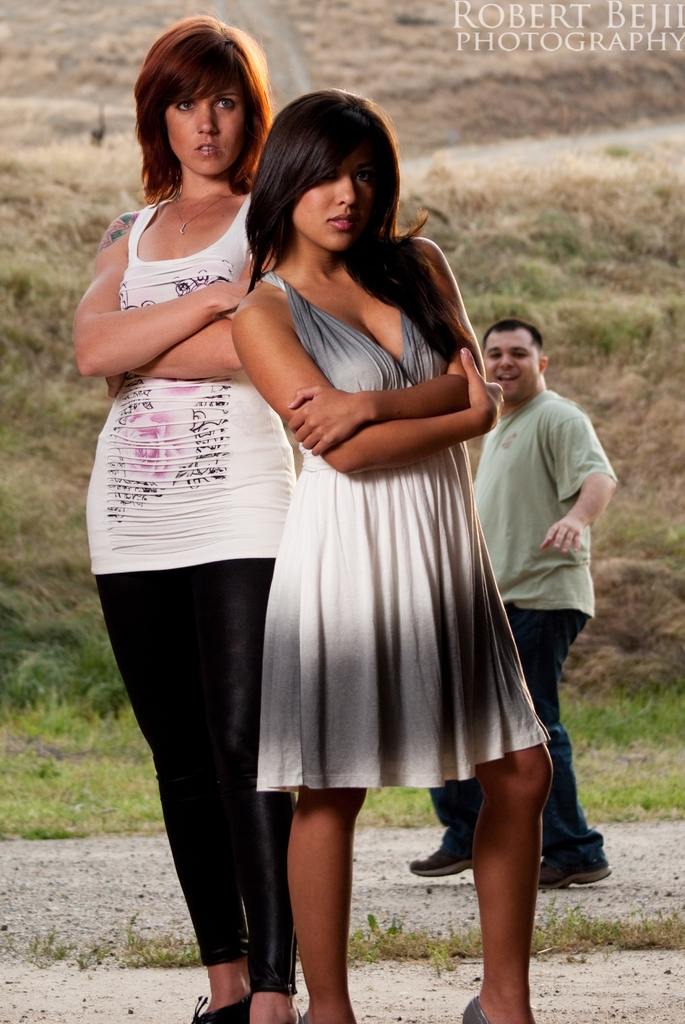Human_hand: (286, 377, 385, 453), (459, 342, 504, 433), (211, 244, 261, 314), (536, 515, 586, 556), (102, 370, 130, 398)
